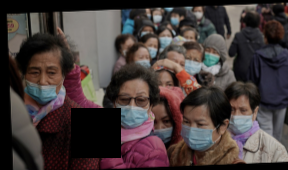mask_weared_incorrect: (22, 61, 63, 103)
with_mask: (115, 88, 149, 129), (180, 113, 216, 150), (227, 102, 253, 134), (151, 111, 173, 142), (183, 52, 202, 76), (201, 47, 221, 67), (133, 53, 152, 69), (157, 31, 172, 47), (145, 41, 158, 58), (169, 14, 181, 25), (151, 12, 163, 23), (193, 9, 204, 19)
